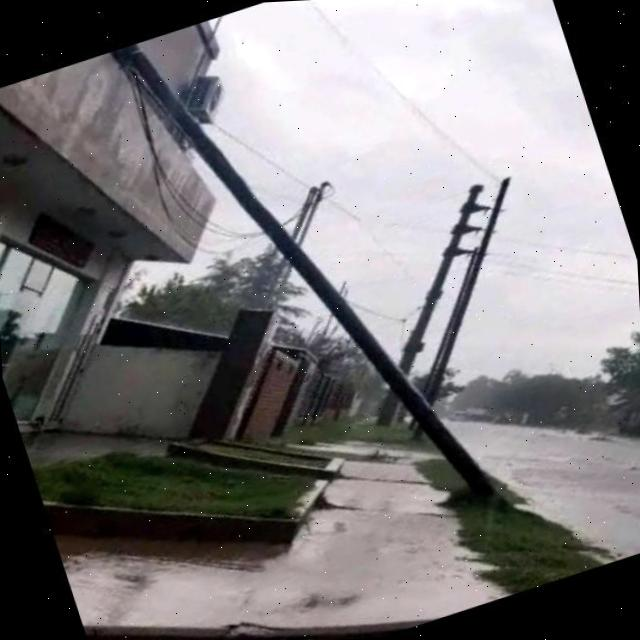Broken Pole: (111, 44, 494, 500)
